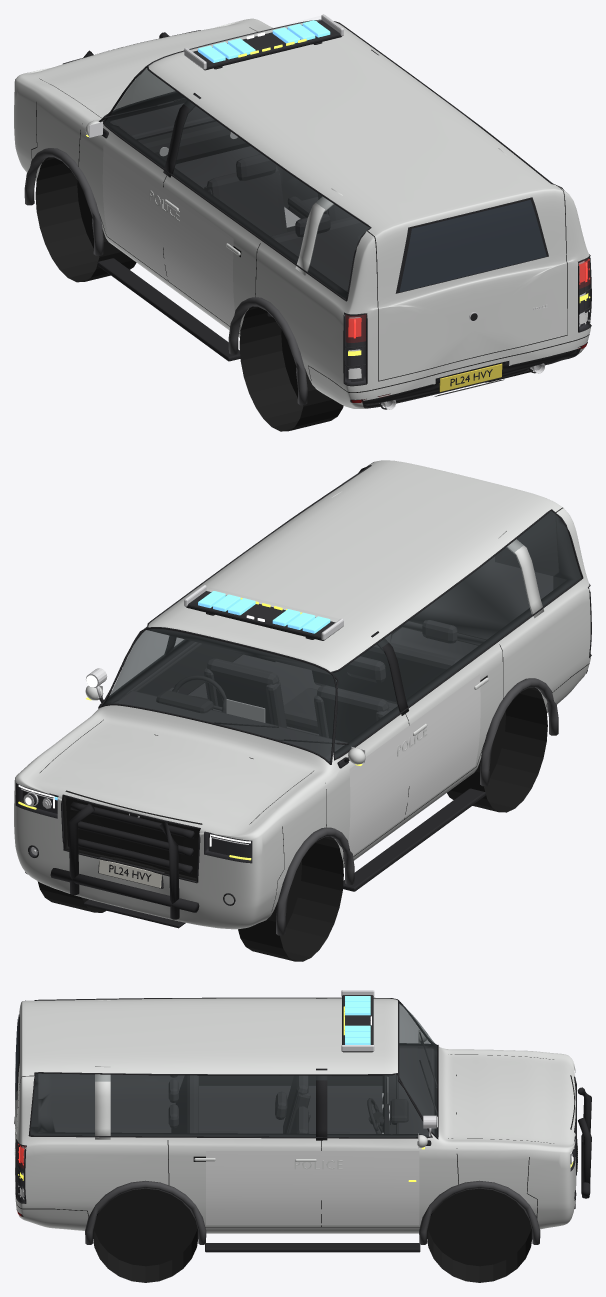
The model's file is police_heavy.glb.
The picture shows the model from 3 angles, top to bottom: view 1: azimuth 30°, elevation 25°; view 2: azimuth 150°, elevation 25°; view 3: azimuth 270°, elevation 25°; orthographic projection. The views are drawn at different scales.
Parts seen in each view (by area): view 1: police_heavy; view 2: police_heavy; view 3: police_heavy.
Boxes of the visible parts, x1,y1,x2,y2 form: police_heavy: [14, 14, 591, 431]; police_heavy: [14, 460, 591, 961]; police_heavy: [14, 990, 591, 1282].
Size of the model in its own units: 2.33 by 2.12 by 5.12.
